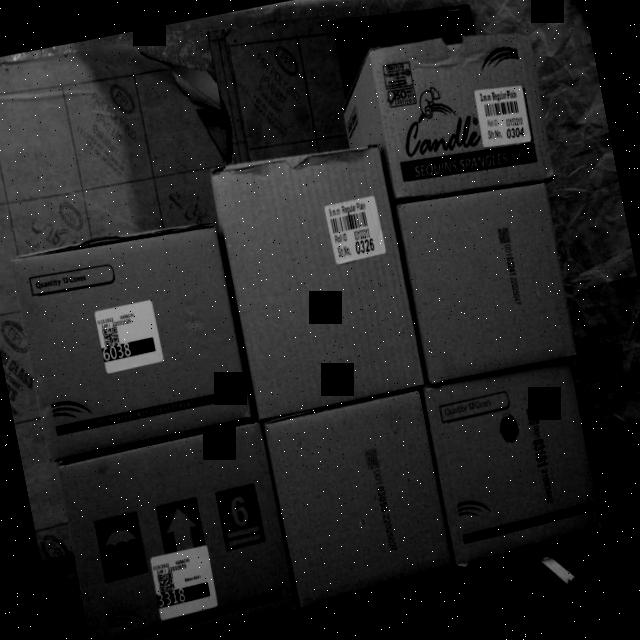box: (8, 216, 256, 459), (210, 144, 422, 420), (53, 424, 302, 640), (260, 389, 460, 606), (392, 176, 579, 385), (422, 356, 604, 562), (367, 15, 551, 208), (607, 203, 613, 206)
